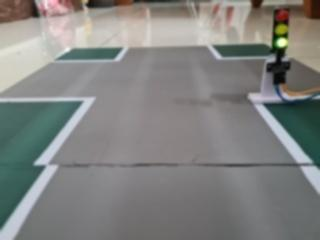green: (269, 3, 293, 64)
